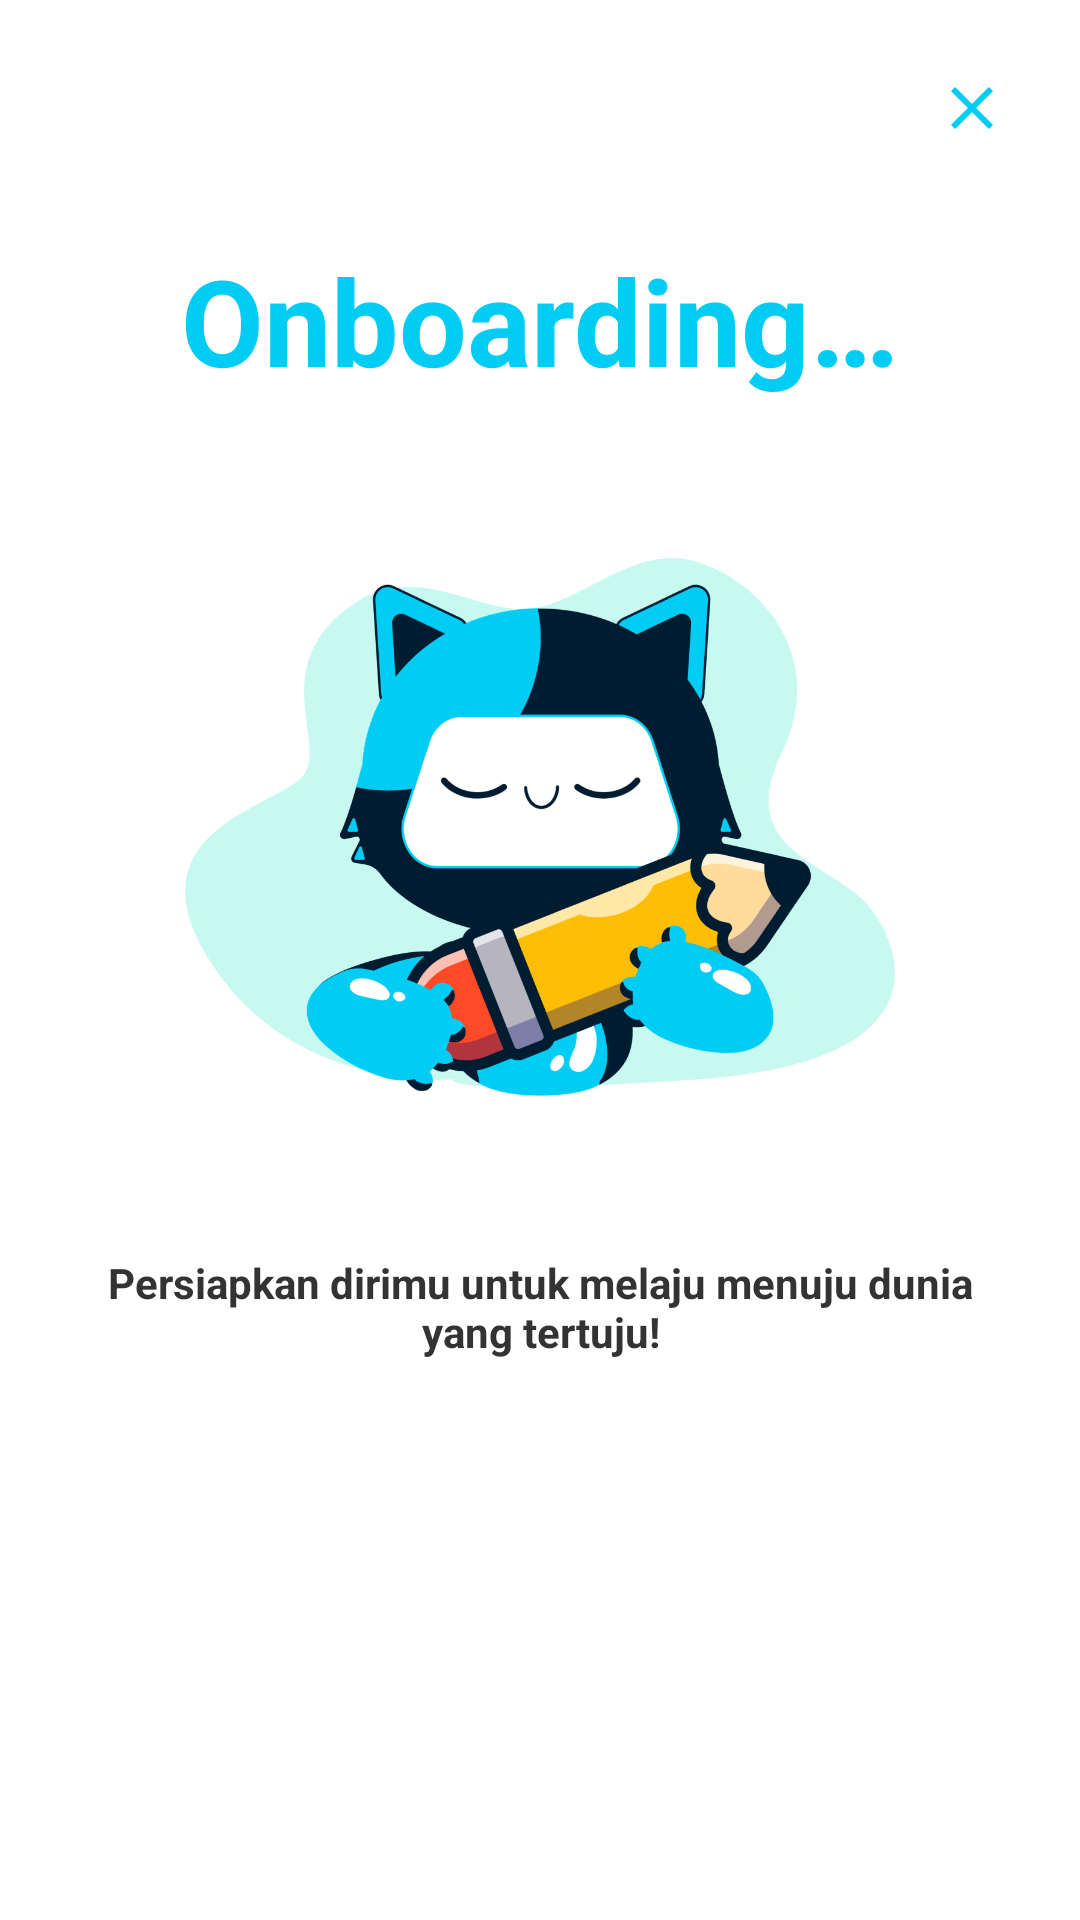

Point at icon controls on the screen. Image size 1080w x 1920h, points as (x,y).
close: (972,108)
